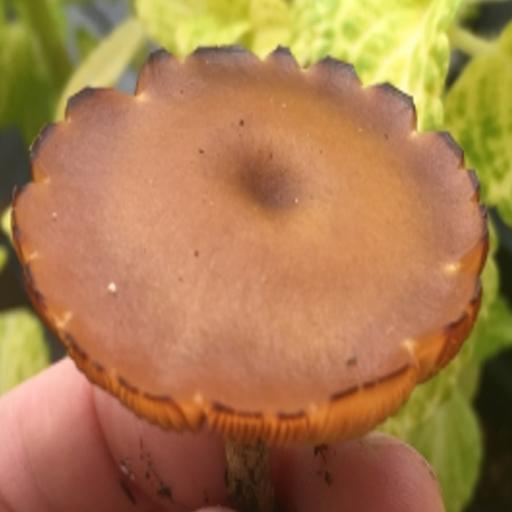mushroom: (9, 43, 498, 454)
